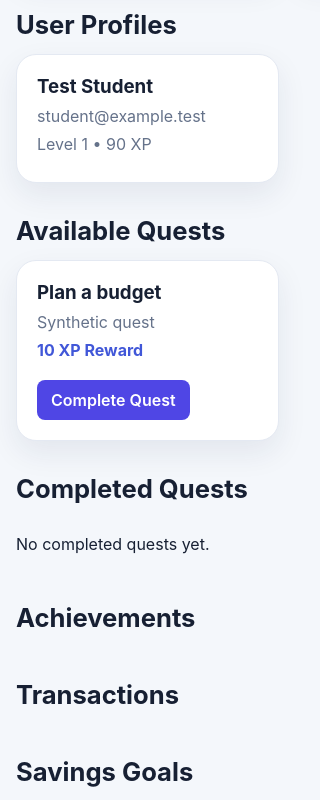
Test case: Defect regression checks › CQ-D002 / WB-D02 an incomplete record remains available and can be completed
(page scrolled)
Expected: the text "✓ Plan a budget" is not shown
Click the button "Complete Quest" at (113, 400), box [37,380,190,420]
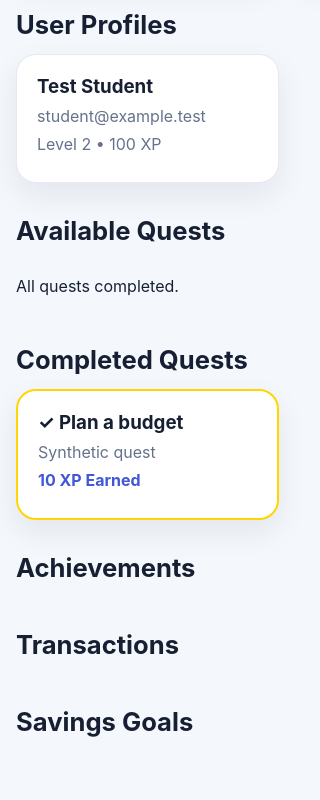
Now the heading "✓ Plan a budget" is shown, box [38,411,183,434]
Now the text "Level 2 • 100 XP" is shown, box [37,134,162,154]
